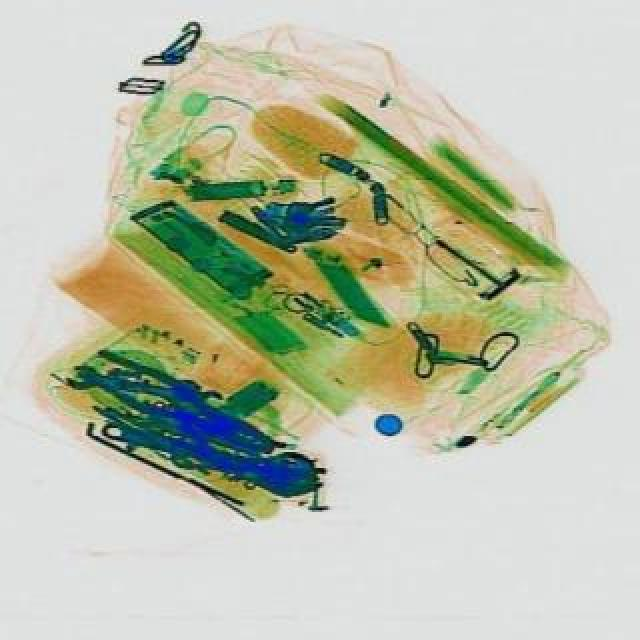scissors: (94, 406, 326, 504), (62, 358, 196, 406)
wrench: (72, 338, 284, 470)
